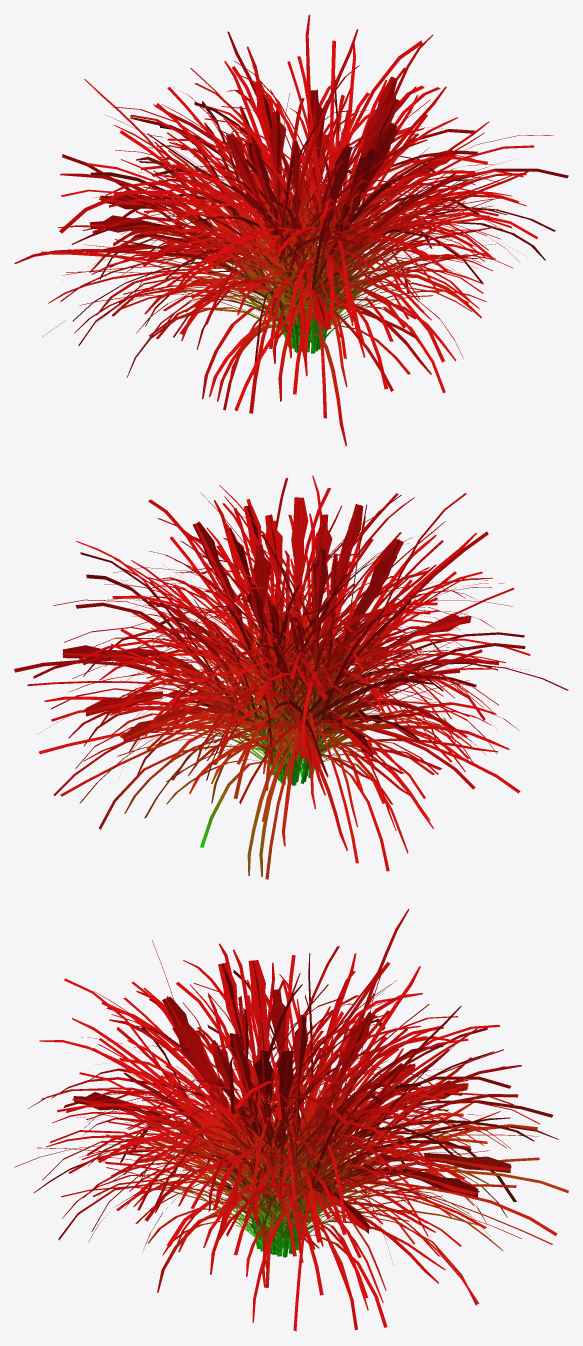
Rendered from Basket Grass_LOD2_Var5_slfpffjr.fbx.
3 views of the same model, one above another, from view 1: azimuth 30°, elevation 25°; view 2: azimuth 150°, elevation 25°; view 3: azimuth 270°, elevation 25° (orthographic). The views are drawn at different scales.
Parts seen in each view (by area): view 1: _f8bd_Var5_LOD2; view 2: _f8bd_Var5_LOD2; view 3: _f8bd_Var5_LOD2.
Boxes of the visible parts, x1,y1,x2,y2 form: _f8bd_Var5_LOD2: (14,14,568,446); _f8bd_Var5_LOD2: (14,475,568,879); _f8bd_Var5_LOD2: (14,909,568,1331).
Bounding box in the file's own units: 127 × 74.72 × 119.
